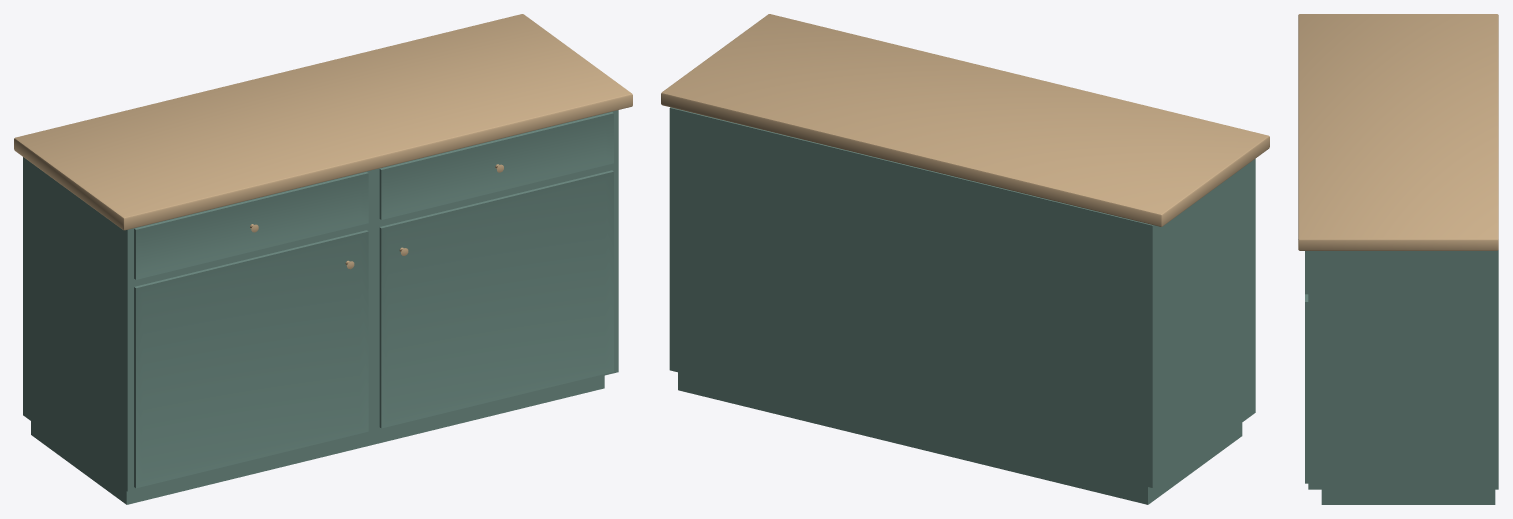
File: counter.glb
The picture shows the model from 3 angles, left to right: view 1: azimuth 30°, elevation 25°; view 2: azimuth 150°, elevation 25°; view 3: azimuth 270°, elevation 25°; orthographic projection. The views are drawn at different scales.
Parts seen in each view (by area): view 1: counter; view 2: counter; view 3: counter.
Part boxes in pixels (x1=…): counter: x1=14, y1=14, x2=632, y2=504; counter: x1=661, y1=14, x2=1269, y2=504; counter: x1=1298, y1=14, x2=1498, y2=504.
Size of the model in its own units: 1.6 by 0.9 by 0.6.
